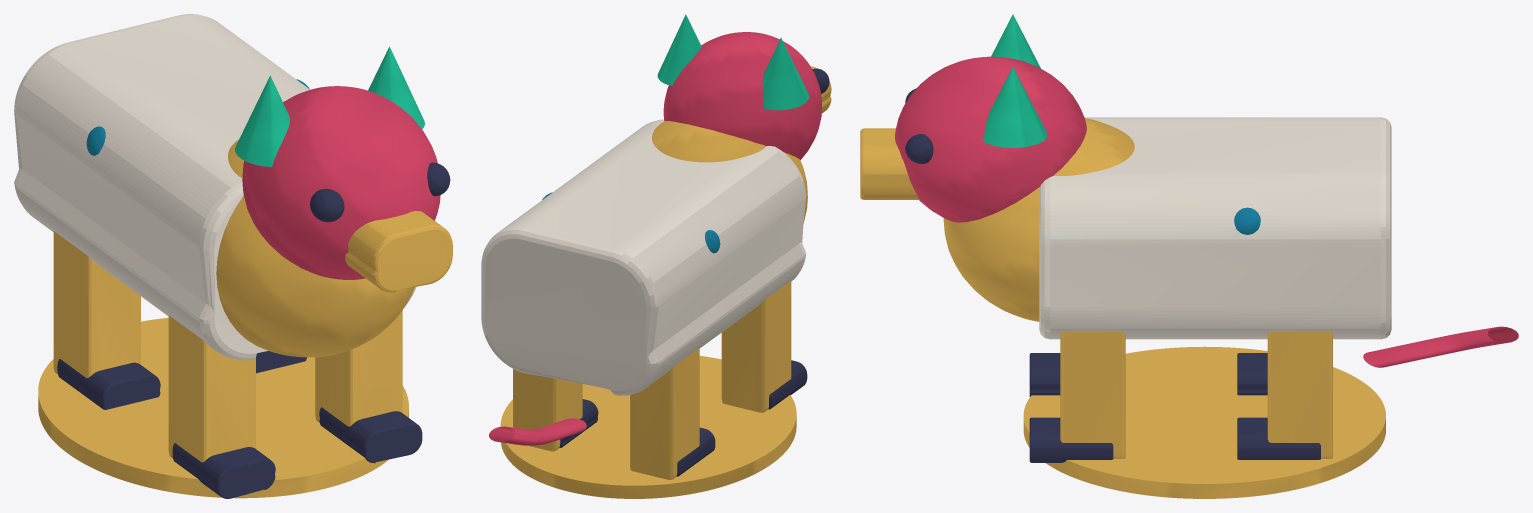
The model's file is 0295_古生代动物图鉴_秀山恐鲎.glb.
3 views of the same model, side by side, from view 1: azimuth 30°, elevation 25°; view 2: azimuth 150°, elevation 25°; view 3: azimuth 270°, elevation 25° (orthographic). The views are drawn at different scales.
Parts seen in each view (by area): view 1: card_0295; view 2: card_0295; view 3: card_0295.
Part boxes in pixels (box(x1,y1,x2,y2)): card_0295: box(14, 14, 452, 498); card_0295: box(481, 14, 831, 498); card_0295: box(860, 14, 1518, 498).
Bounding box in the file's own units: 0.7542 × 1 × 1.53.
